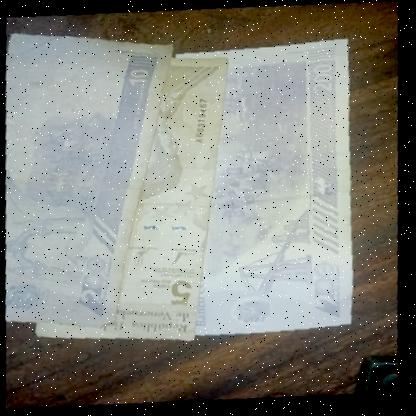five-front-vef: (38, 53, 230, 344)
ten-back-vef: (0, 28, 172, 328)
two_hundred-back-vef: (156, 32, 370, 342)
